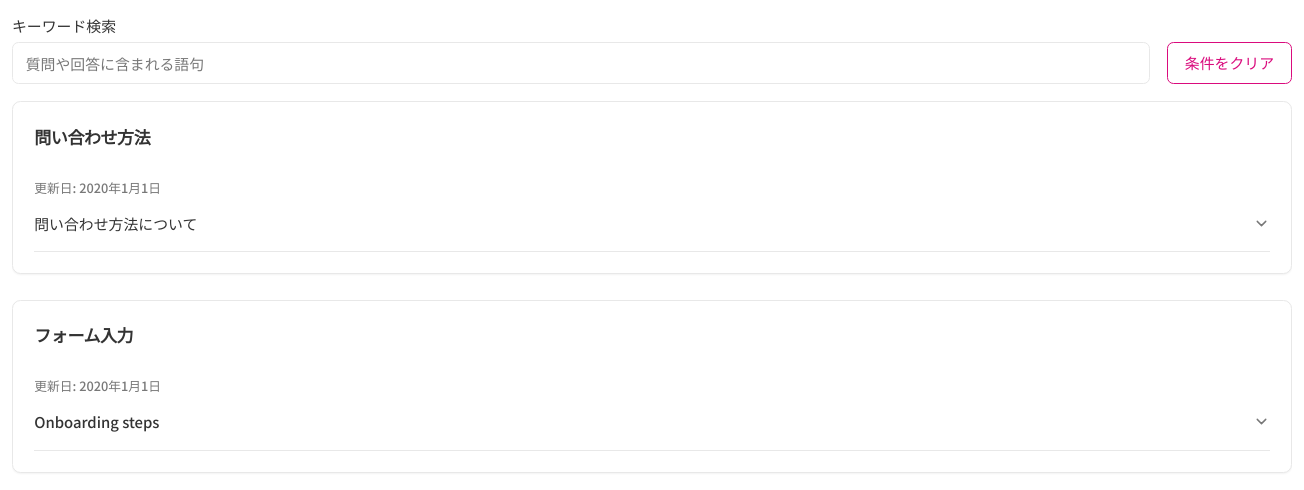
Test: FaqListClient › キーワードで質問・回答を絞り込み、カテゴリ別グループ表示を保つ
The image size is (1304, 490).
Type "Onboarding" into the field labelled "キーワード検索".
click(581, 63); type("Onboarding")  # box [12,42,1150,84]
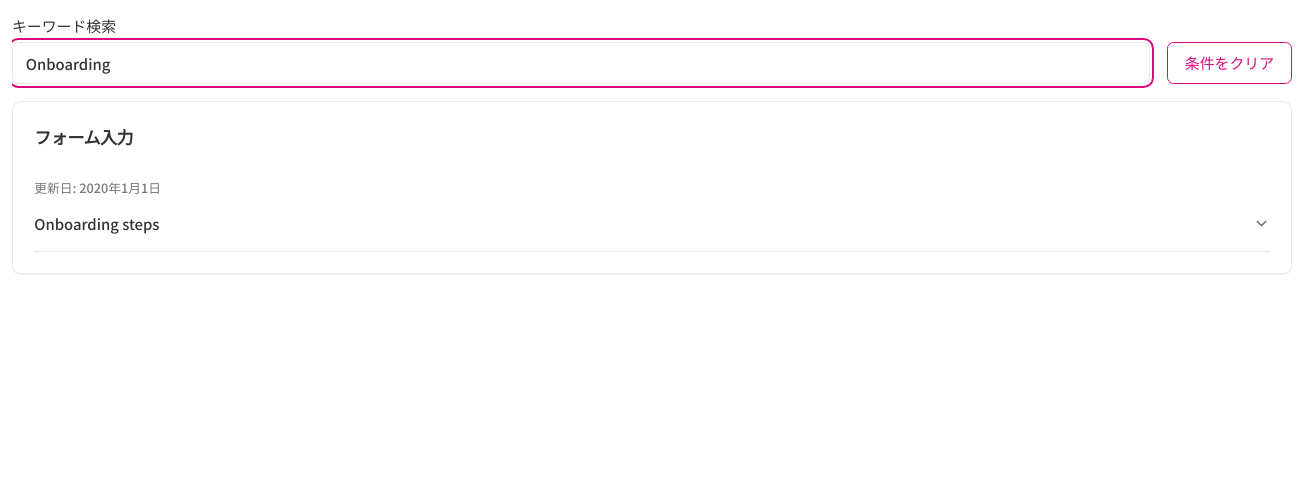
Expected: the button "Onboarding steps" is shown, [34,196,1270,251]
Expected: the button "問い合わせ方法について" is gone
Expected: the heading "問い合わせ方法" is gone
